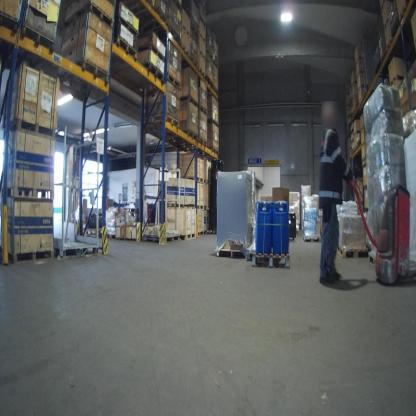pallet: (63, 1, 114, 29), (2, 118, 56, 140), (19, 24, 56, 53), (3, 184, 55, 201), (77, 58, 110, 84), (8, 248, 55, 264), (138, 60, 165, 84), (135, 43, 167, 63), (252, 252, 290, 268), (113, 15, 137, 39), (143, 112, 179, 128), (111, 38, 137, 60), (0, 10, 20, 31), (140, 234, 178, 245), (214, 246, 245, 259), (154, 4, 170, 26), (380, 1, 389, 32), (168, 25, 181, 46), (164, 74, 180, 90), (178, 96, 198, 108), (165, 202, 195, 209), (398, 3, 410, 20), (81, 228, 102, 237), (181, 175, 204, 183), (390, 74, 404, 87), (182, 130, 198, 141), (176, 232, 195, 241), (180, 42, 190, 58), (386, 35, 395, 52), (302, 235, 321, 243), (181, 22, 191, 37), (189, 55, 199, 69), (208, 147, 220, 156), (211, 82, 219, 95), (199, 136, 208, 147), (198, 105, 207, 116), (199, 47, 206, 61), (206, 45, 213, 59), (207, 120, 219, 128), (199, 32, 206, 44), (205, 75, 212, 87), (146, 0, 155, 9), (355, 56, 362, 66), (212, 59, 219, 69), (199, 67, 205, 78), (357, 85, 364, 93), (202, 179, 211, 185), (357, 71, 363, 79), (288, 236, 296, 242), (107, 235, 116, 240), (358, 98, 363, 107), (203, 229, 210, 235), (361, 154, 365, 163), (361, 139, 365, 147), (197, 205, 204, 209), (360, 126, 364, 133), (204, 206, 209, 211), (198, 231, 203, 235)
pallet_truck: (340, 166, 416, 285)
